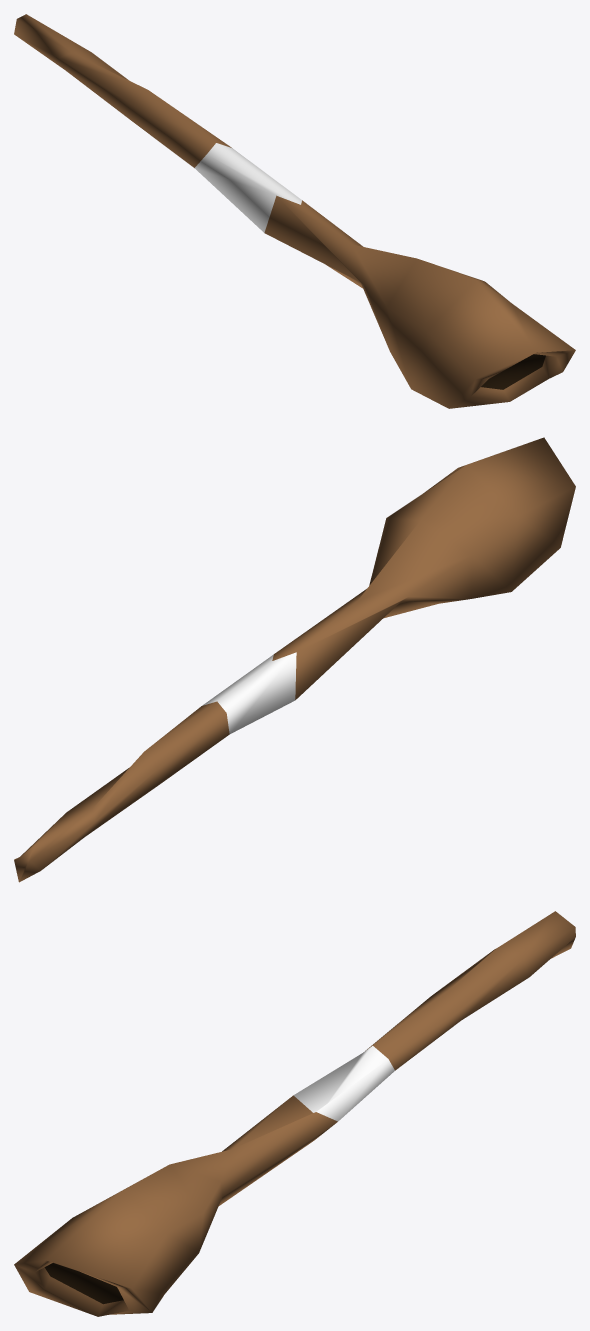
The model's file is char_016_weapon_01_wizard_staff_01_FBX.fbx.
3 renders of one model, top to bottom at view 1: azimuth 30°, elevation 25°; view 2: azimuth 150°, elevation 25°; view 3: azimuth 330°, elevation 25°, orthographic. The views are drawn at different scales.
Parts seen in each view (by area): view 1: weapon_wizard_staff_01; view 2: weapon_wizard_staff_01; view 3: weapon_wizard_staff_01.
Part boxes in pixels (box(x1,y1,x2,y2)): weapon_wizard_staff_01: box(14, 14, 575, 408); weapon_wizard_staff_01: box(14, 437, 575, 882); weapon_wizard_staff_01: box(14, 911, 575, 1316).
Size of the model in its own units: 0.5075 by 0.4406 by 3.83.
1 material, 1 textured.
